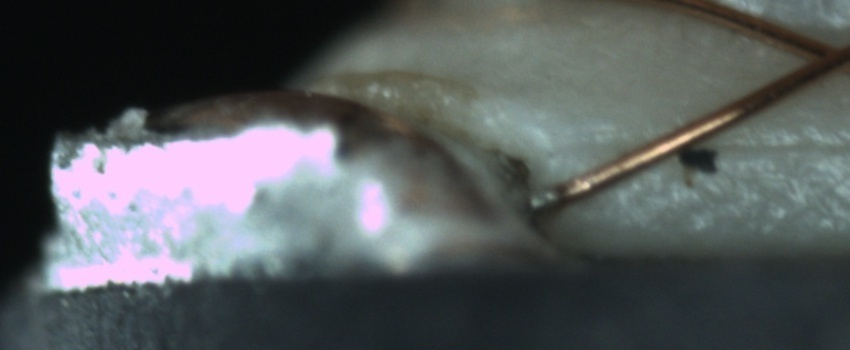CL: (778, 26, 847, 87)
DL: (571, 115, 844, 180)
